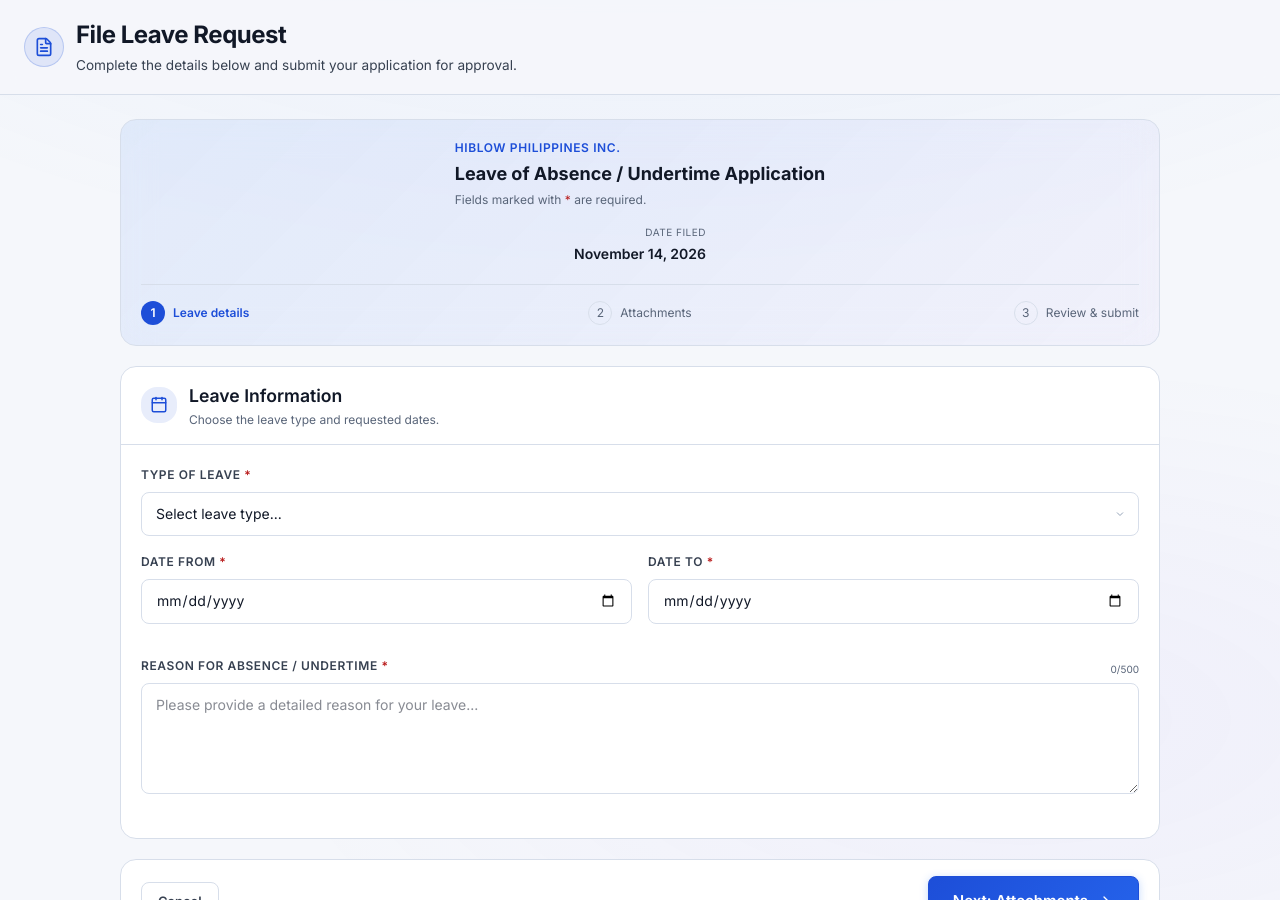
Test: operator chooses department line leader at filing › hides operator selection for SL and retains the department-designated SL workflow
The width and height of the screenshot is (1280, 900).
Select "VL — Vacation" in the dropdown labelled "Type of Leave *" at (640, 514), box [141, 492, 1139, 536]
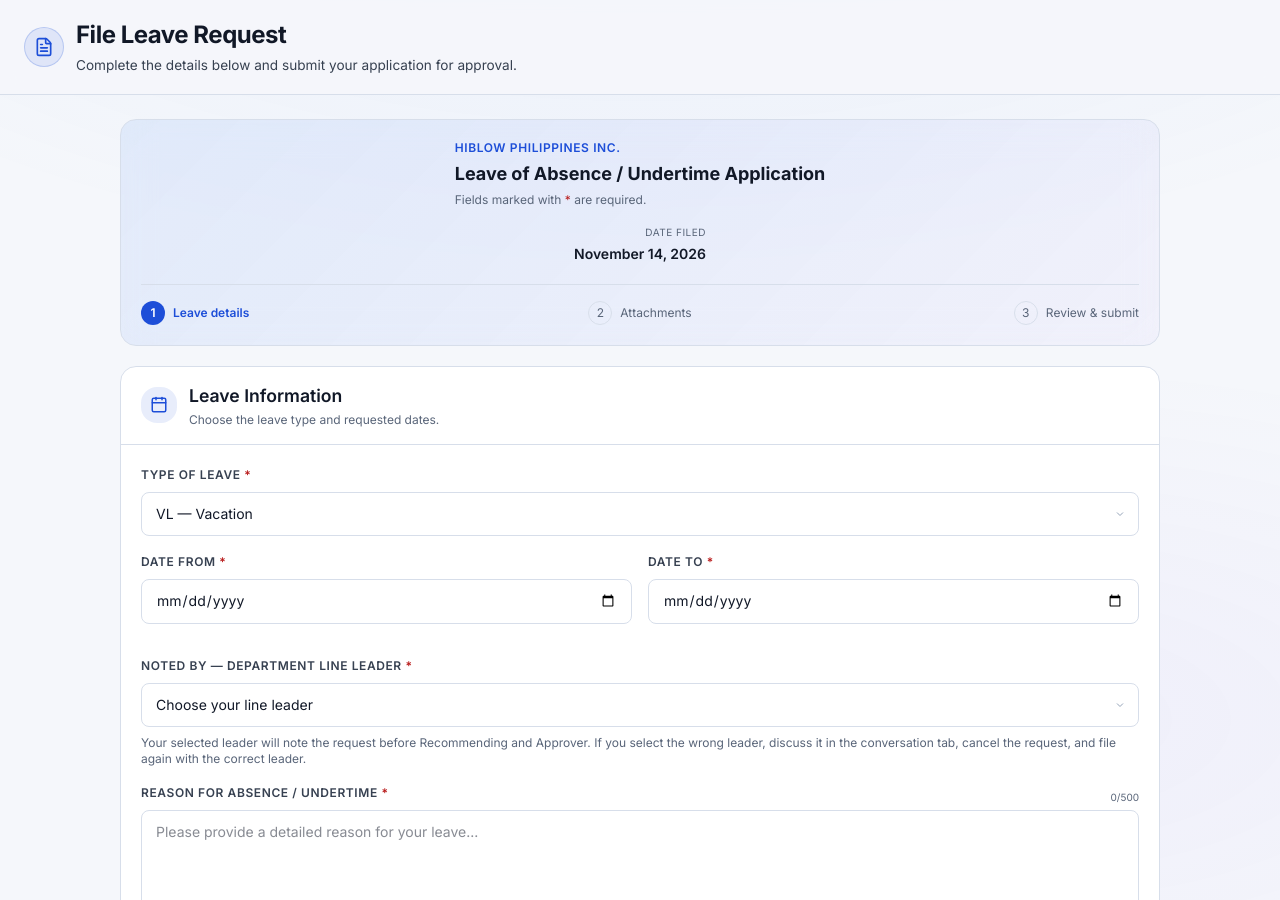
Check: the dropdown labelled "Noted by — department line leader *" is shown, box [141, 683, 1139, 727]
Select "SL — Sick Leave" in the dropdown labelled "Type of Leave *" at (640, 514), box [141, 492, 1139, 536]
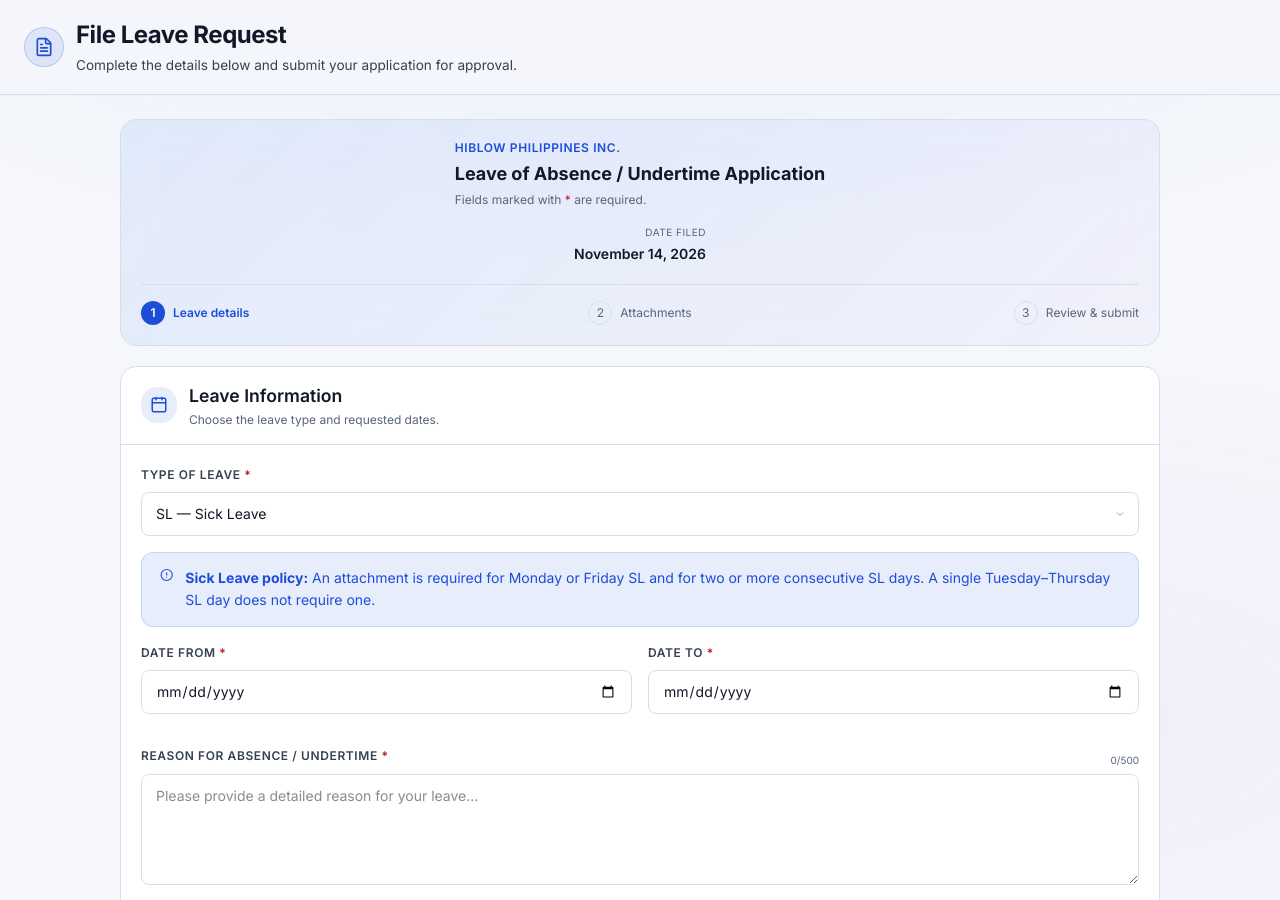
Check: the label labelled "Noted by" is gone
